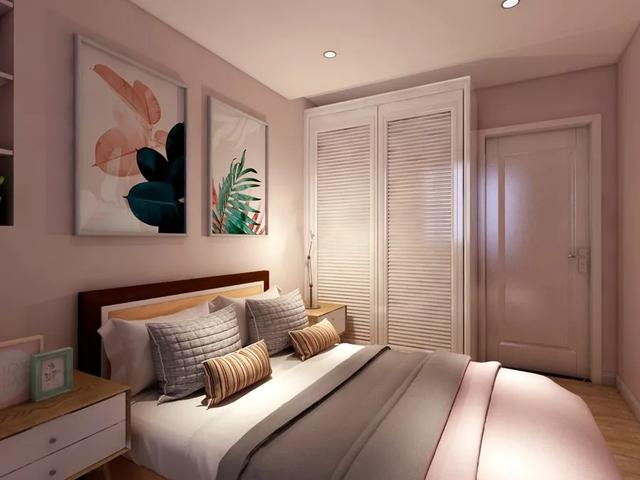床: (108, 342, 629, 476)
枕头: (108, 288, 351, 404)
灯: (321, 48, 341, 62)
